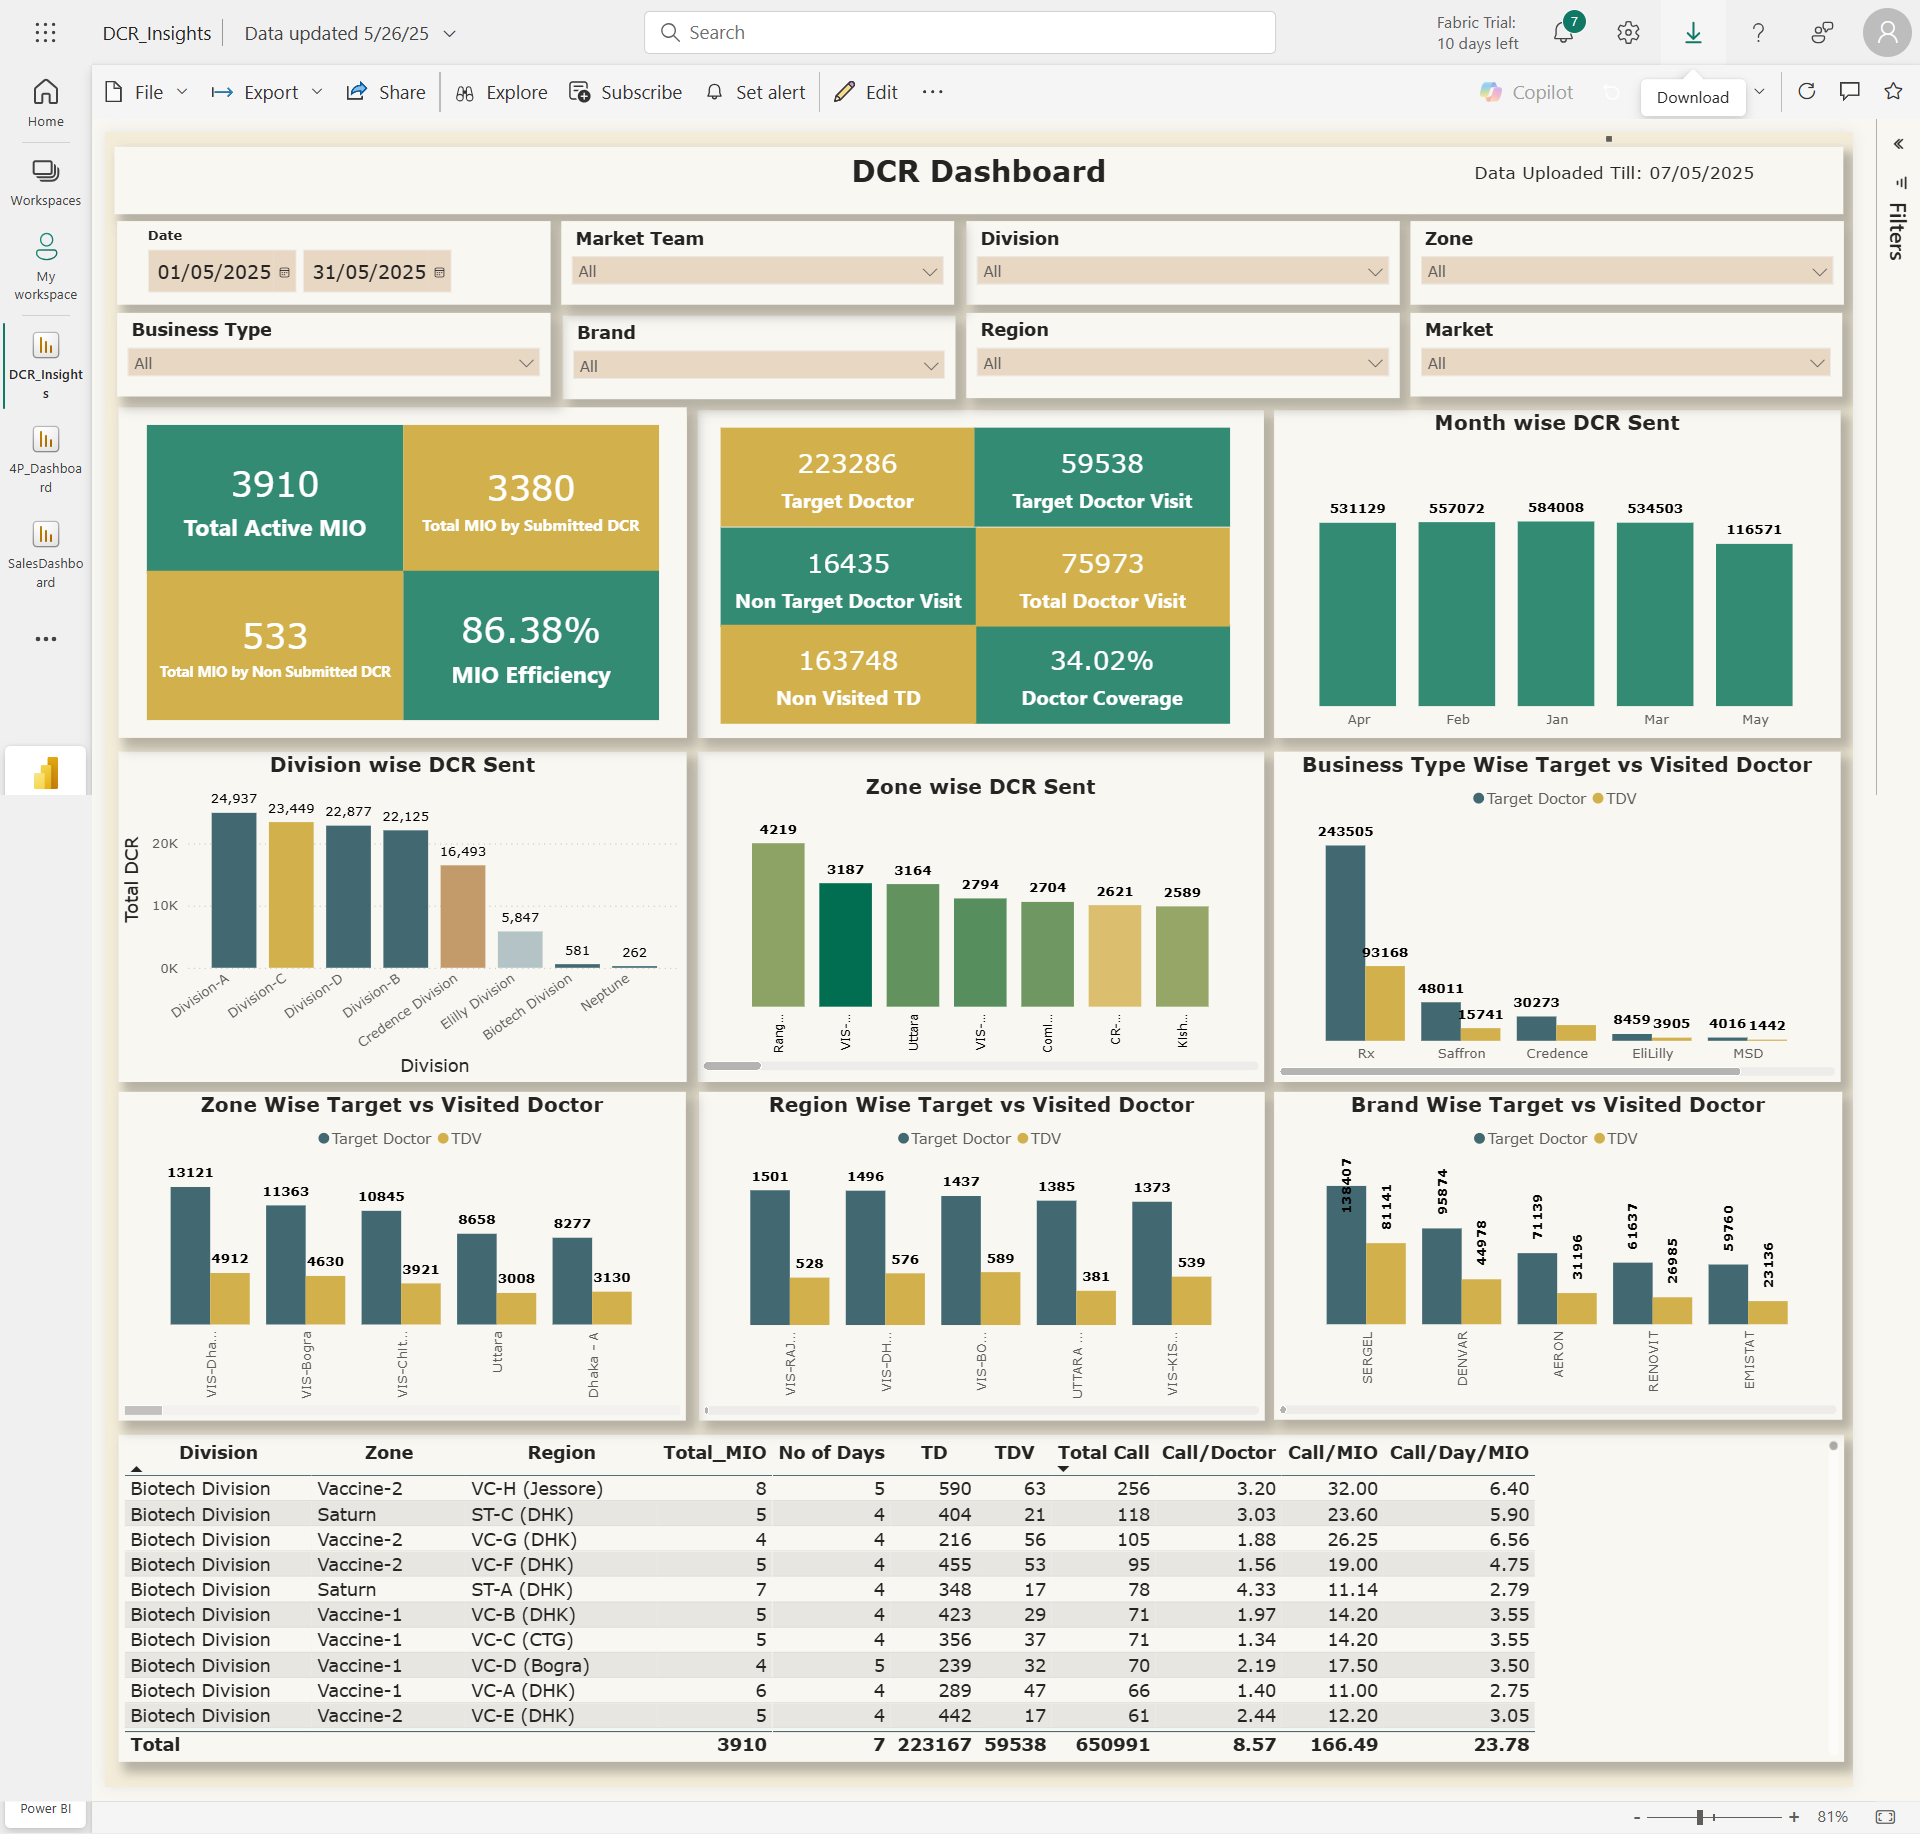

Layout of this report page (visuals, bound fields, positions):
{"tool":"powerbi","page":{"name":"DCR Insights","canvas":[1595,1510],"ordinal":0},"visuals":[{"type":"shape","box":[11.8,251.9,518.4,301.1],"z":0,"group":"g2"},{"type":"lineStackedColumnComboChart","title":"Zone wise DCR Sent","fields":{"Category":["PBI_Market_master_t.ZoneName"],"Y":["PBI_DCR_COMBINED_SRC_T.Submitted DCR"]},"box":[540.5,565,516.7,301.1],"z":0},{"type":"shape","box":[540.5,253.6,516.7,299.4],"z":1000},{"type":"textbox","box":[8.3,13.2,1577.9,61.2],"z":2000},{"type":"actionButton","box":[1366.2,0,228.3,13.2],"z":3000},{"type":"tableEx","fields":{"Values":["PBI_Market_master_t.DivisionName","PBI_Market_master_t.ZoneName","PBI_Market_master_t.RegeionName","PBI_Market_master_t.Total_MIO","PBI_DCR_COMBINED_SRC_T.No of Days","PBI_DOC.TD","PBI_DCR_COMBINED_SRC_T.TDV1","PBI_DCR_COMBINED_SRC_T.Total Call","PBI_DCR_COMBINED_SRC_T.Call_Per_Doc","PBI_DCR_COMBINED_SRC_T.Call_PerMIO","PBI_DCR_COMBINED_SRC_T.Call_Per_Day_Per_MIO"]},"box":[11.9,1188.3,1574.5,298.6],"z":4000},{"type":"slicer","fields":{"Values":["MasterCalendar.Date"]},"box":[11.7,81.9,395.7,76],"z":5000},{"type":"card","fields":{"Values":["MasterCalendar.Data Updated Till Date"]},"box":[1222.3,18.2,311,39.7],"z":6000},{"type":"clusteredColumnChart","title":"Month wise DCR Sent","fields":{"Category":["MasterCalendar.Month_Name"],"Y":["PBI_DCR_COMBINED_SRC_T.Submitted DCR"]},"box":[1067.5,253.6,516.7,299.4],"z":7000},{"type":"card","title":"Total MIO","fields":{"Values":["PBI_Market_master_t.Total_MIO"]},"box":[37.4,267.4,234.2,134.7],"z":8000,"group":"g1"},{"type":"slicer","fields":{"Values":["ProductCategory_t.ProductCategoryName"]},"box":[417.1,167.6,358.6,76],"z":9000},{"type":"card","title":"Total DCR Sent","fields":{"Values":["PBI_DCR_COMBINED_SRC_T.Total MIO by Submitted DCR"]},"box":[271.6,267.4,233,134.7],"z":9000,"group":"g1"},{"type":"columnChart","title":"Division wise DCR Sent","fields":{"Category":["PBI_Market_master_t.DivisionName"],"Y":["PBI_DCR_COMBINED_SRC_T.Submitted DCR"]},"box":[11.8,565,518.4,301.1],"z":10000},{"type":"slicer","fields":{"Values":["PBI_Market_master_t.DivisionName"]},"box":[785.5,81.9,395.7,76],"z":11000},{"type":"card","title":"Missing MIO","fields":{"Values":["PBI_DCR_COMBINED_SRC_T.Total MIO by Non Submitted DCR"]},"box":[37.4,400.9,234.2,136],"z":11000,"group":"g1"},{"type":"card","title":"Total MIO","fields":{"Values":["PBI_DOC.TD"]},"box":[561.5,270.3,231.7,90.6],"z":12000},{"type":"group","id":"g1","title":"Group 4","box":[37.4,267.4,467.4,268.6],"z":12001,"group":"g2"},{"type":"slicer","fields":{"Values":["PBI_Market_master_t.ZoneName"]},"box":[1190.9,81.9,395.7,76],"z":13000},{"type":"card","title":"Missing MIO","fields":{"Values":["PBI_DCR_COMBINED_SRC_T.MIO Efficiency"]},"box":[271.6,400.9,233,136],"z":13000,"group":"g1"},{"type":"clusteredColumnChart","title":"Business Type Wise Target vs Visited Doctor","fields":{"Category":["ProductCategory_t.Business Type"],"Y":["PBI_DOC.Target_Doc","PBI_DOC.TDV"]},"box":[1067.5,565,516.7,301.1],"z":14000},{"type":"clusteredColumnChart","title":"Region Wise Target vs Visited Doctor","fields":{"Category":["PBI_Market_master_t.RegeionName"],"Y":["PBI_DOC.Target_Doc","PBI_DOC.TDV"]},"box":[541.6,875.8,516.2,300.1],"z":15000},{"type":"card","title":"Total DCR Sent","fields":{"Values":["PBI_DCR_COMBINED_SRC_T.TDV1"]},"box":[793.2,270.3,233.2,90.6],"z":16000},{"type":"clusteredColumnChart","title":"Zone Wise Target vs Visited Doctor","fields":{"Category":["PBI_Market_master_t.ZoneName"],"Y":["PBI_DOC.Target_Doc","PBI_DOC.TDV"]},"box":[12.4,876.2,517.7,299.6],"z":17000},{"type":"clusteredColumnChart","title":"Brand Wise Target vs Visited Doctor","fields":{"Category":["ProductCategory_t.ProductCategoryName"],"Y":["PBI_DOC.Target_Doc","PBI_DOC.TDV"]},"box":[1067.5,876.4,518.4,299.4],"z":18000},{"type":"slicer","fields":{"Values":["PBI_Market_master_t.RegeionName"]},"box":[785.5,165.7,395.7,78],"z":19000},{"type":"card","title":"Missing MIO","fields":{"Values":["PBI_DOC.NTDV"]},"box":[561.5,360.9,233.2,90.6],"z":20000},{"type":"group","id":"g2","title":"Group 2","box":[11.8,251.9,518.4,301.1],"z":21000},{"type":"card","title":"Missing MIO","fields":{"Values":["PBI_DCR_COMBINED_SRC_T.Doctor Coverage"]},"box":[793.2,450.1,233.2,90.6],"z":22000},{"type":"slicer","fields":{"Values":["PBI_Market_master_t.MarketName"]},"box":[1190.9,165.7,393.7,76],"z":23000},{"type":"slicer","fields":{"Values":["ProductCategory_t.Business Type"]},"box":[11.7,165.7,395.7,76],"z":24000},{"type":"slicer","fields":{"Values":["PBI_Market_master_t.Market_team"]},"box":[416.9,81.3,358.6,76],"z":25000},{"type":"card","title":"Missing MIO","fields":{"Values":["PBI_DOC.TNVD"]},"box":[561.5,450.1,233.2,90.6],"z":26000},{"type":"card","title":"Missing MIO","fields":{"Values":["PBI_DCR_COMBINED_SRC_T.Total Doctor Visit"]},"box":[794.7,360.9,231.7,90.6],"z":27000}]}

Visuals, with their boxes on the page's 1595x1510 design canvas (x1, y1, x2, y2). These are canvas units, not pixel positions in the 1920x1834 screenshot, which may show the page scaled, cropped or inside an application window:
shape: crop(12, 252, 530, 553)
"Zone wise DCR Sent" lineStackedColumnComboChart: crop(540, 565, 1057, 866)
shape: crop(540, 254, 1057, 553)
textbox: crop(8, 13, 1586, 74)
actionButton: crop(1366, 0, 1594, 13)
tableEx - PBI_Market_master_t.DivisionName x PBI_Market_master_t.ZoneName: crop(12, 1188, 1586, 1487)
slicer - MasterCalendar.Date: crop(12, 82, 407, 158)
card - MasterCalendar.Data Updated Till Date: crop(1222, 18, 1533, 58)
"Month wise DCR Sent" clusteredColumnChart: crop(1068, 254, 1584, 553)
"Total MIO" card: crop(37, 267, 272, 402)
slicer - ProductCategory_t.ProductCategoryName: crop(417, 168, 776, 244)
"Total DCR Sent" card: crop(272, 267, 505, 402)
"Division wise DCR Sent" columnChart: crop(12, 565, 530, 866)
slicer - PBI_Market_master_t.DivisionName: crop(786, 82, 1181, 158)
"Missing MIO" card: crop(37, 401, 272, 537)
"Total MIO" card: crop(562, 270, 793, 361)
"Group 4" group: crop(37, 267, 505, 536)
slicer - PBI_Market_master_t.ZoneName: crop(1191, 82, 1587, 158)
"Missing MIO" card: crop(272, 401, 505, 537)
"Business Type Wise Target vs Visited Doctor" clusteredColumnChart: crop(1068, 565, 1584, 866)
"Region Wise Target vs Visited Doctor" clusteredColumnChart: crop(542, 876, 1058, 1176)
"Total DCR Sent" card: crop(793, 270, 1026, 361)
"Zone Wise Target vs Visited Doctor" clusteredColumnChart: crop(12, 876, 530, 1176)
"Brand Wise Target vs Visited Doctor" clusteredColumnChart: crop(1068, 876, 1586, 1176)
slicer - PBI_Market_master_t.RegeionName: crop(786, 166, 1181, 244)
"Missing MIO" card: crop(562, 361, 795, 452)
"Group 2" group: crop(12, 252, 530, 553)
"Missing MIO" card: crop(793, 450, 1026, 541)
slicer - PBI_Market_master_t.MarketName: crop(1191, 166, 1585, 242)
slicer - ProductCategory_t.Business Type: crop(12, 166, 407, 242)
slicer - PBI_Market_master_t.Market_team: crop(417, 81, 776, 157)
"Missing MIO" card: crop(562, 450, 795, 541)
"Missing MIO" card: crop(795, 361, 1026, 452)
